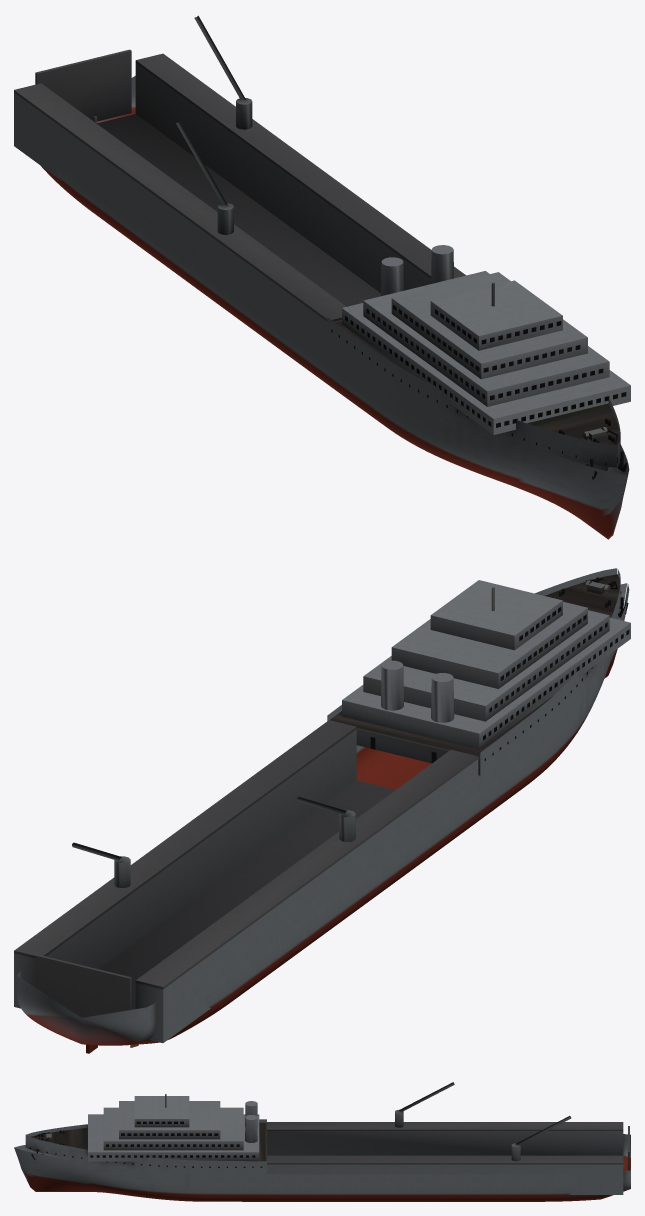
Rendered from model_built.glb.
3 renders of one model, top to bottom at view 1: azimuth 30°, elevation 25°; view 2: azimuth 150°, elevation 25°; view 3: azimuth 270°, elevation 25°, orthographic. The views are drawn at different scales.
Parts seen in each view (by area): view 1: main; view 2: main; view 3: main.
Part boxes in pixels (<box>): main: <box>14,15,630,539</box>; main: <box>14,568,630,1053</box>; main: <box>14,1082,630,1201</box>.
Bounding box in the file's own units: 25.72 × 27.76 × 158.
1 material, 1 textured.
